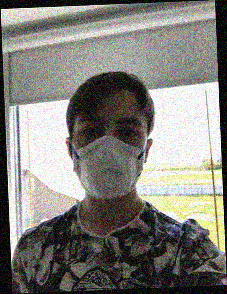with_mask: (68, 107, 151, 200)
